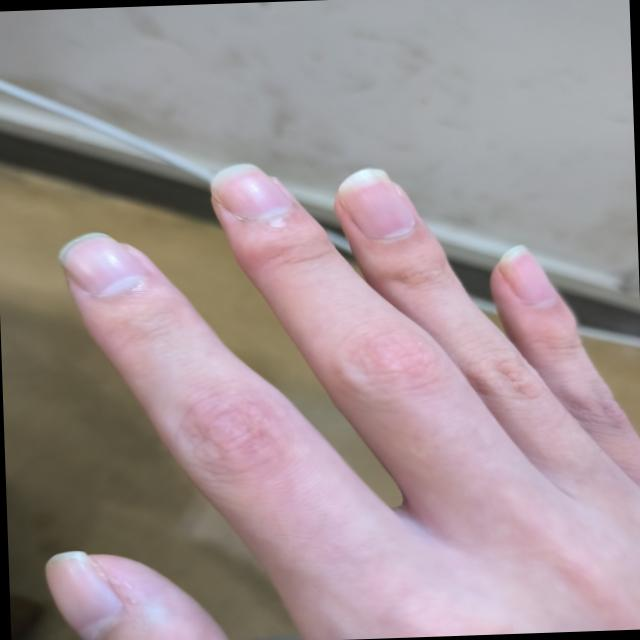Nail: (45, 551, 122, 640), (338, 168, 416, 239), (59, 233, 144, 295), (211, 164, 292, 220), (499, 245, 556, 306)
